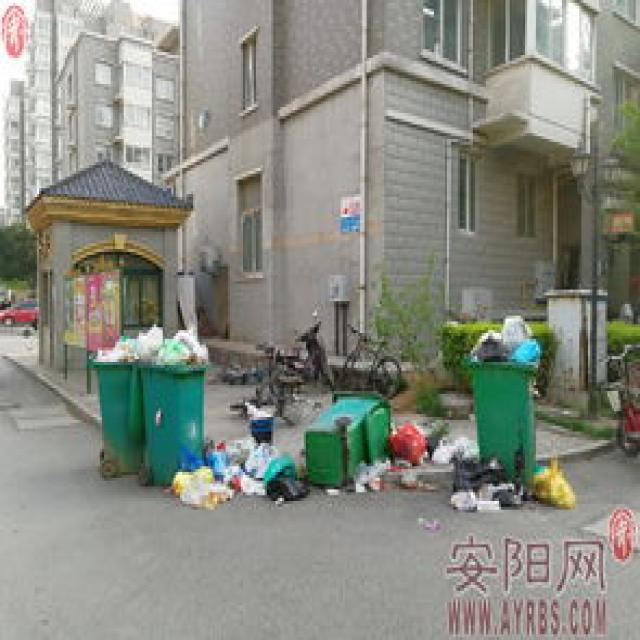garbage: (323, 417, 577, 527), (167, 397, 308, 507)
overflow: (460, 313, 540, 495), (137, 322, 208, 486), (86, 330, 136, 469)
